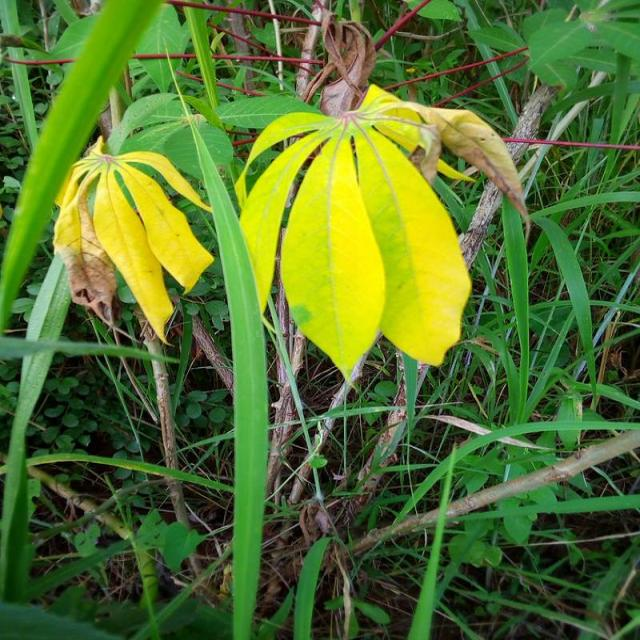cassava leaf: (234, 85, 475, 388), (52, 134, 214, 346)
